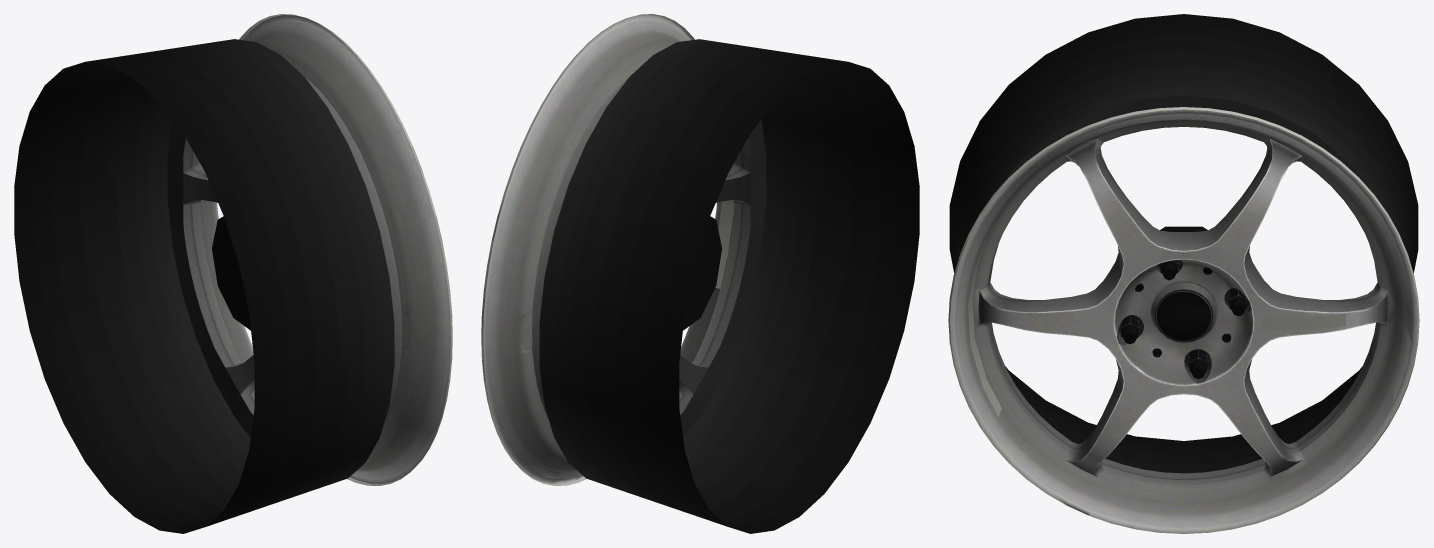
Rendered from wheel29.fbx.
3 views of the same model, side by side, from view 1: azimuth 30°, elevation 25°; view 2: azimuth 150°, elevation 25°; view 3: azimuth 270°, elevation 25° (orthographic). The views are drawn at different scales.
Visible parts, largest first — view 1: bud_p1_racing_qf_wheel_wheel_inner_rim_, wheel_rim, bud_p1_racing_qf_wheel_wheel_rim_; view 2: bud_p1_racing_qf_wheel_wheel_inner_rim_, wheel_rim, bud_p1_racing_qf_wheel_wheel_rim_, bud_p1_racing_qf_wheel_wheel_wheel_emblem_; view 3: bud_p1_racing_qf_wheel_wheel_inner_rim_, bud_p1_racing_qf_wheel_wheel_rim_, wheel_rim, bud_p1_racing_qf_wheel_wheel_wheel_emblem_, bud_p1_racing_qf_wheel_wheel_chrome_rim_.
Part boxes in pixels (x1=…): bud_p1_racing_qf_wheel_wheel_inner_rim_: x1=14, y1=39, x2=394, y2=533; wheel_rim: x1=183, y1=14, x2=452, y2=485; bud_p1_racing_qf_wheel_wheel_rim_: x1=183, y1=14, x2=450, y2=484; bud_p1_racing_qf_wheel_wheel_inner_rim_: x1=539, y1=39, x2=919, y2=533; wheel_rim: x1=481, y1=14, x2=750, y2=485; bud_p1_racing_qf_wheel_wheel_rim_: x1=481, y1=19, x2=750, y2=483; bud_p1_racing_qf_wheel_wheel_wheel_emblem_: x1=715, y1=200, x2=734, y2=288; bud_p1_racing_qf_wheel_wheel_inner_rim_: x1=949, y1=14, x2=1418, y2=473; bud_p1_racing_qf_wheel_wheel_rim_: x1=952, y1=111, x2=1419, y2=533; wheel_rim: x1=948, y1=107, x2=1418, y2=533; bud_p1_racing_qf_wheel_wheel_wheel_emblem_: x1=968, y1=217, x2=1345, y2=416; bud_p1_racing_qf_wheel_wheel_chrome_rim_: x1=1120, y1=260, x2=1247, y2=379.
Bounding box in the file's own units: 0.2325 × 0.4801 × 0.48.
Materials: 1 (1 with a texture image).
